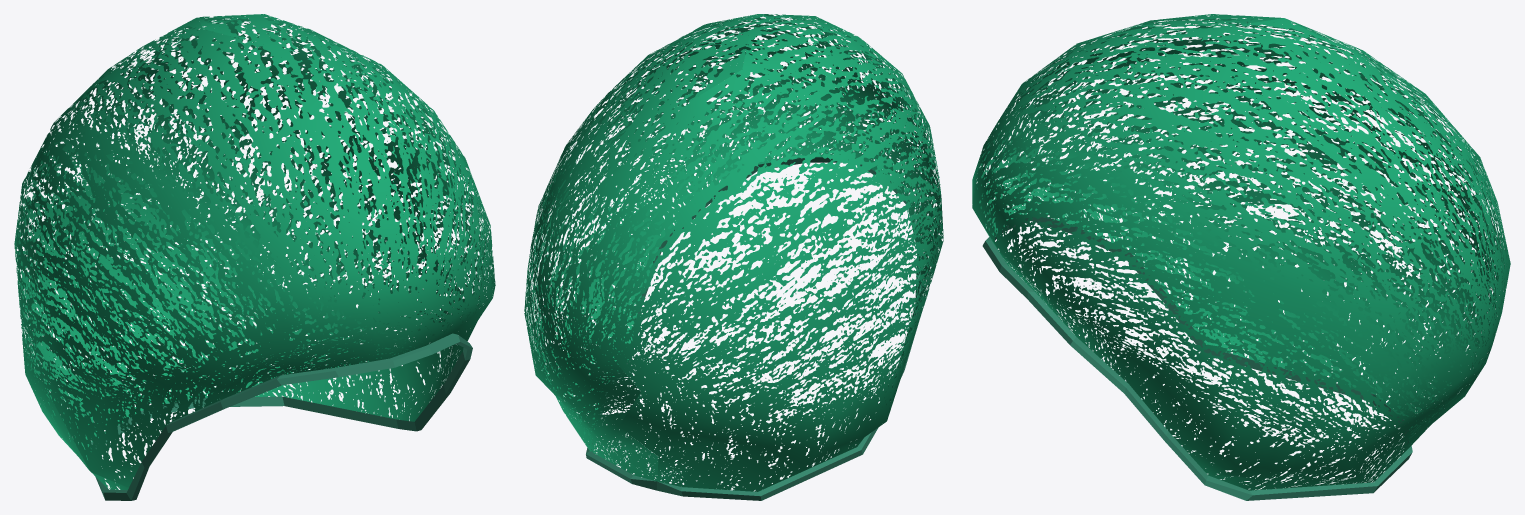
The model's file is penutup_kepala.fbx.
3 renders of one model, left to right at view 1: azimuth 30°, elevation 25°; view 2: azimuth 150°, elevation 25°; view 3: azimuth 270°, elevation 25°, orthographic. The views are drawn at different scales.
Visible parts, largest first — view 1: penutup_kepala; view 2: penutup_kepala; view 3: penutup_kepala.
Boxes of the visible parts, box(x1,y1,x2,y2) form: penutup_kepala: box(14, 14, 495, 500); penutup_kepala: box(524, 14, 943, 500); penutup_kepala: box(972, 14, 1510, 500).
Size of the model in its own units: 20.14 by 22.34 by 26.08.
Materials: 2 (1 with a texture image).
